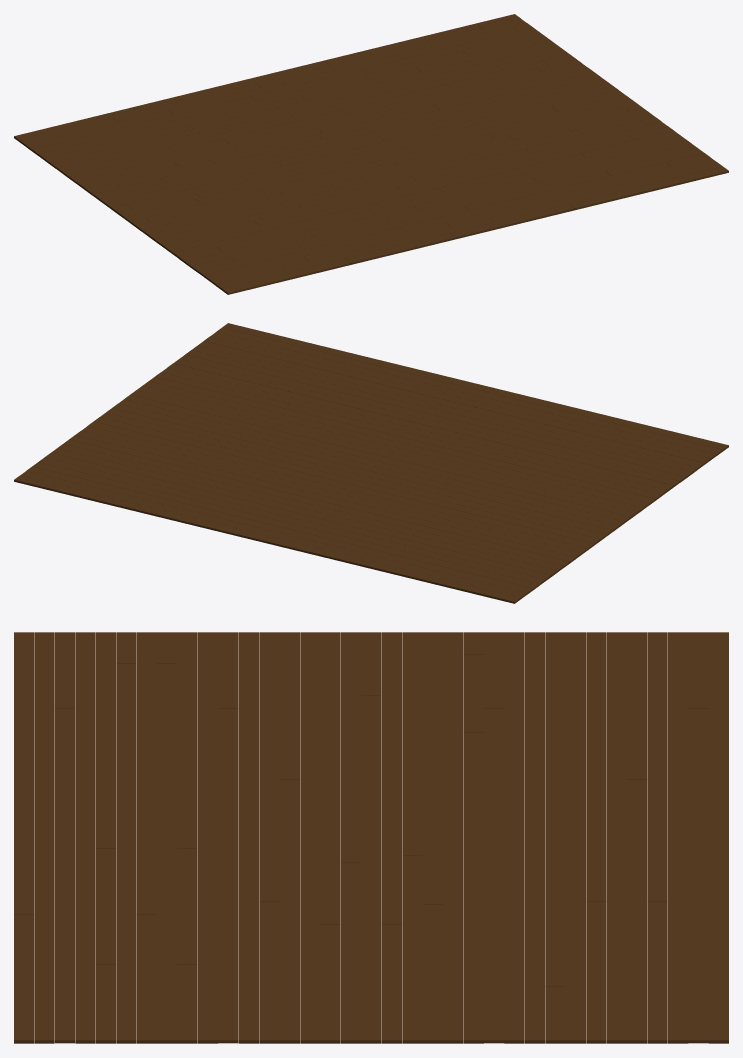
File: piso.fbx
The picture shows the model from 3 angles, top to bottom: view 1: azimuth 30°, elevation 25°; view 2: azimuth 150°, elevation 25°; view 3: azimuth 270°, elevation 25°; orthographic projection. The views are drawn at different scales.
Visible parts, largest first — view 1: Cube.019; view 2: Cube.019; view 3: Cube.019.
Part boxes in pixels (<box>): Cube.019: <box>14,14,728,294</box>; Cube.019: <box>14,323,728,603</box>; Cube.019: <box>14,632,728,1043</box>.
Bounding box in the file's own units: 2860 × 10.63 × 2117.
